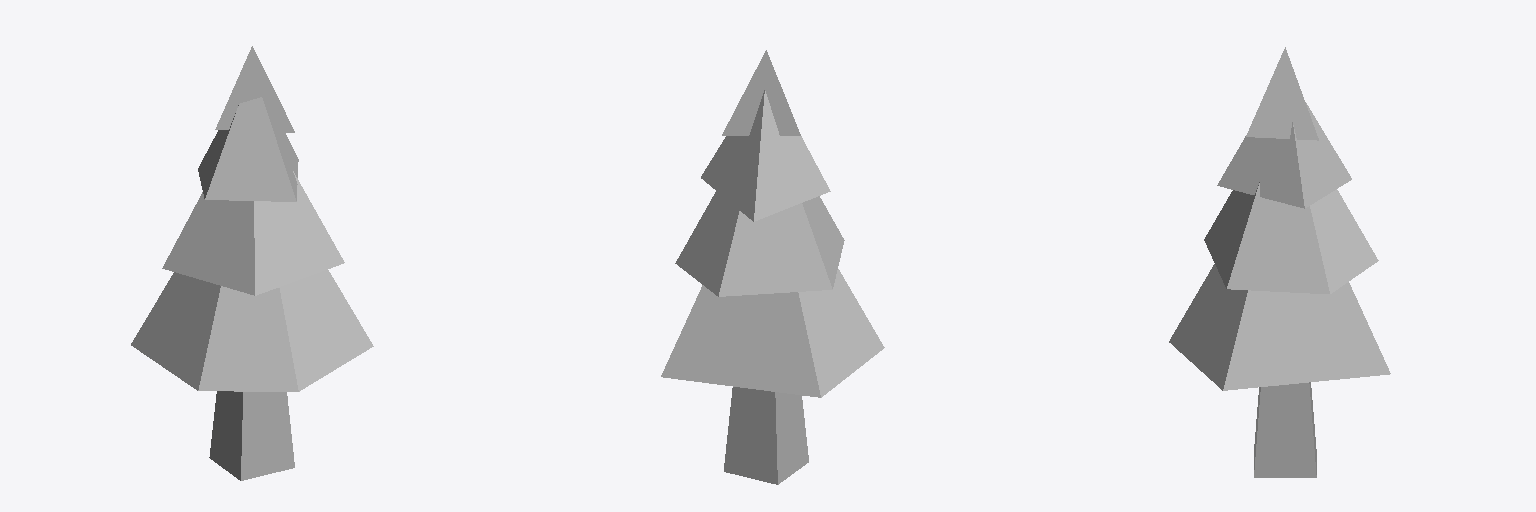
The picture shows the model from 3 angles: view 1: azimuth 30°, elevation 25°; view 2: azimuth 150°, elevation 25°; view 3: azimuth 270°, elevation 25°; orthographic projection.
Visible parts, largest first — view 1: pine2_LOD3; view 2: pine2_LOD3; view 3: pine2_LOD3.
Boxes of the visible parts, box(x1,y1,x2,y2) form: pine2_LOD3: box(131, 46, 373, 480); pine2_LOD3: box(661, 50, 884, 484); pine2_LOD3: box(1169, 47, 1390, 477).
Bounding box in the file's own units: 4.68 × 10.45 × 5.04.